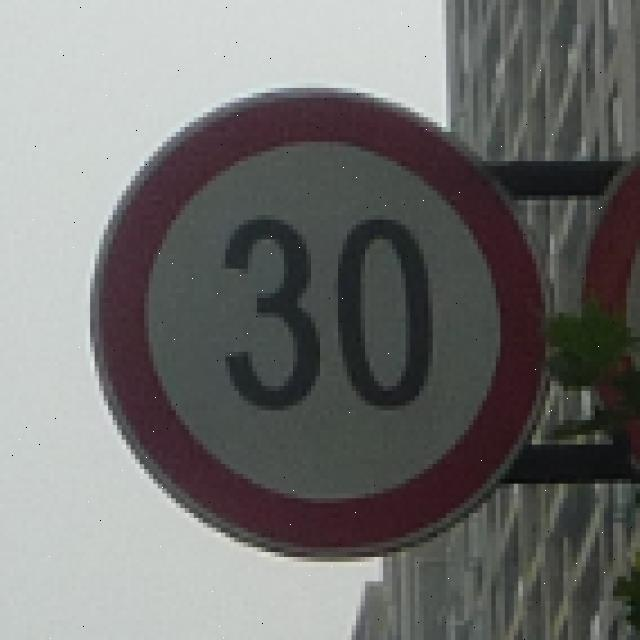speed limit 30: (90, 88, 552, 557)
